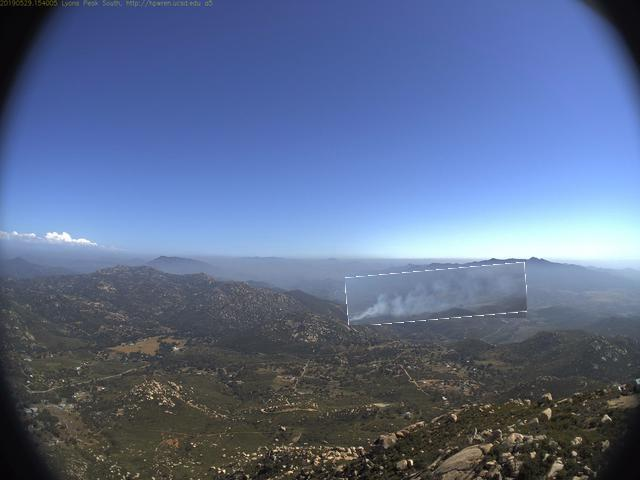smoke: (347, 267, 529, 324)
